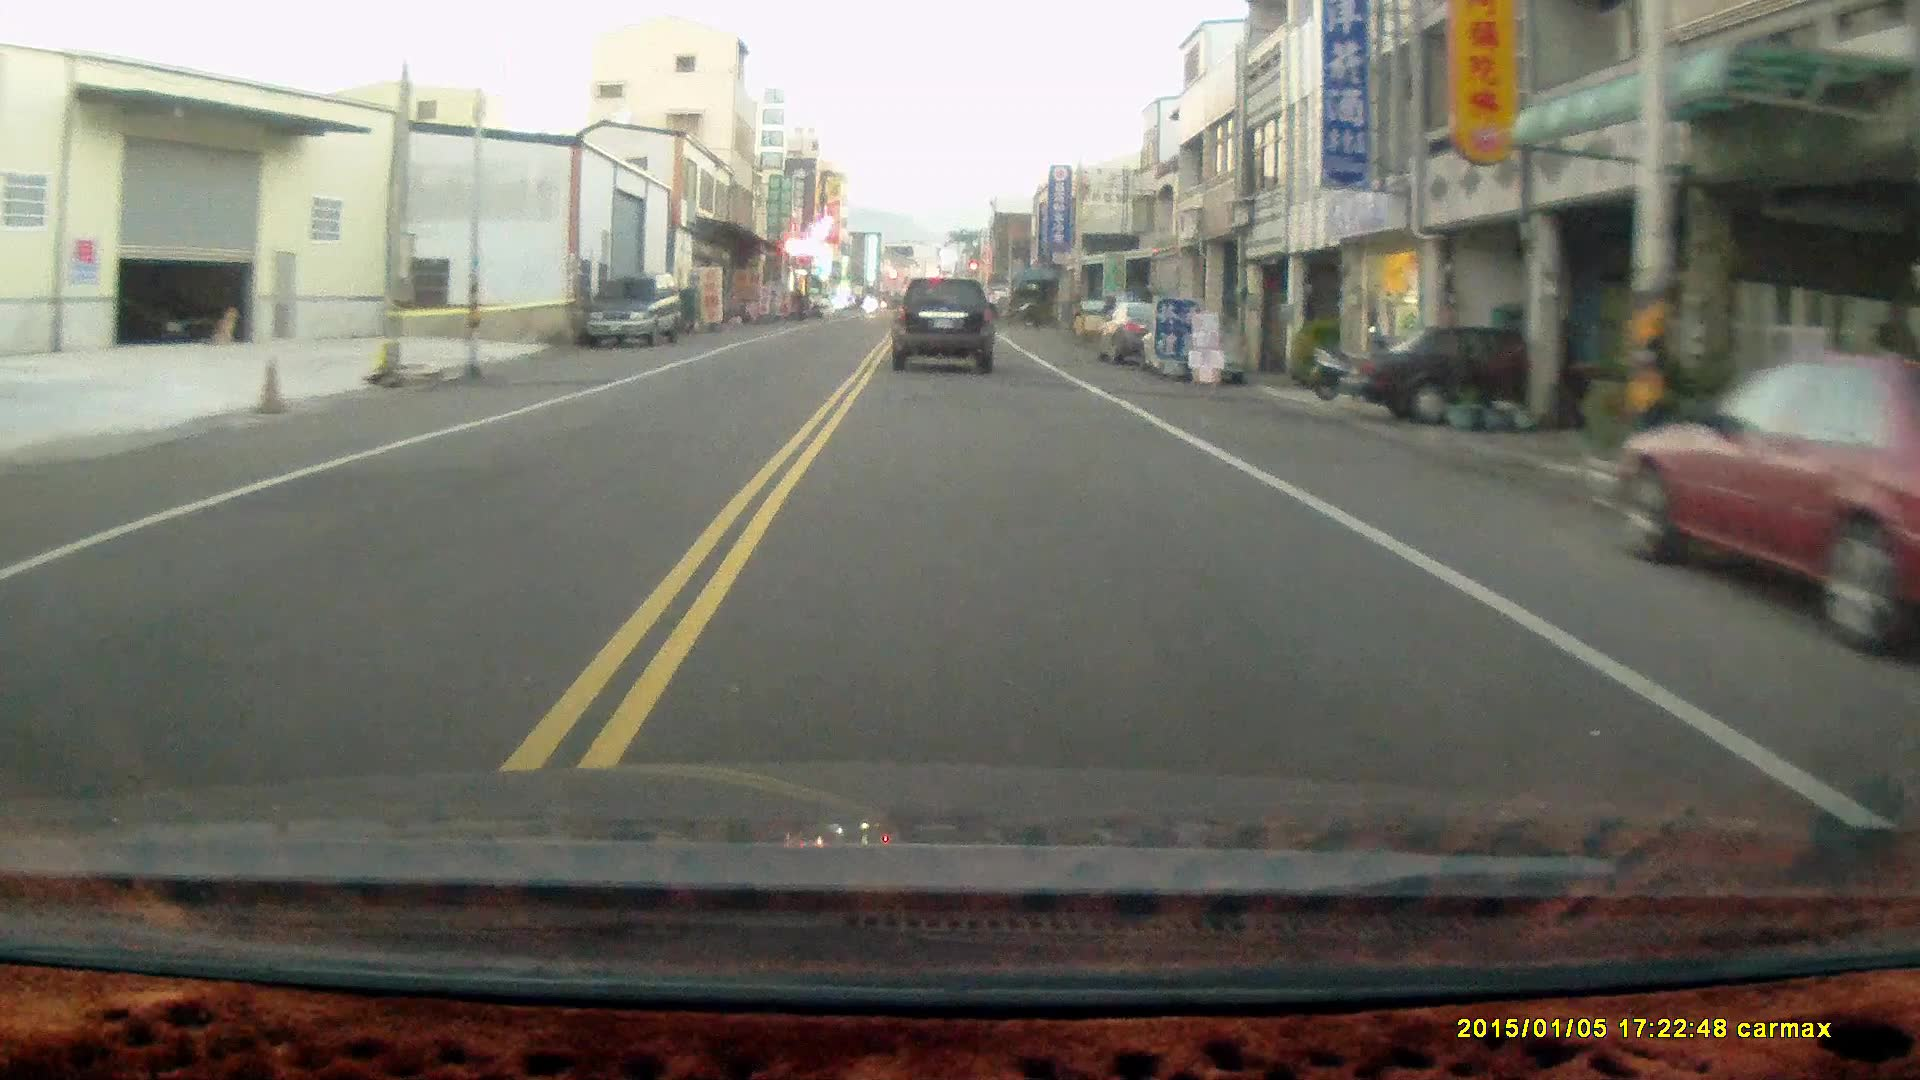vehicle: (1611, 345, 1920, 633), (1337, 324, 1642, 422), (890, 277, 997, 376), (587, 273, 688, 353)
